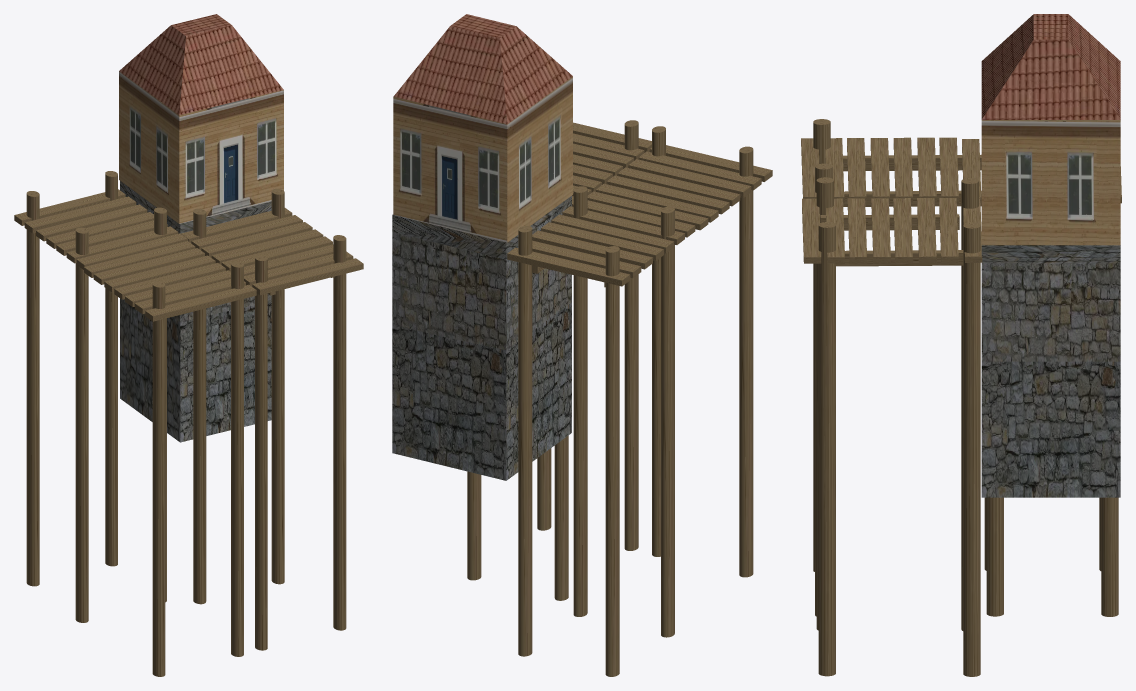
The model's file is fisherman2.glb.
The picture shows the model from 3 angles, left to right: view 1: azimuth 30°, elevation 25°; view 2: azimuth 150°, elevation 25°; view 3: azimuth 270°, elevation 25°; orthographic projection. The views are drawn at different scales.
Parts seen in each view (by area): view 1: Cube, Cube.002, Cylinder.004, Cylinder.007, Cylinder.002, Cylinder.005, Cylinder.003, Cylinder.008, Cylinder.009, Cylinder.010, Cylinder.001, Cube.008 (+22 smaller); view 2: Cube.002, Cube, Cylinder.002, Cylinder.001, Cylinder.004, Cylinder.005, Cylinder.006, Cylinder.008, Cylinder.003, Cylinder.009, Cylinder.010, Cube.013 (+17 smaller); view 3: Cube.002, Cube, Cylinder.007, Cylinder.010, Cylinder.001, Cylinder.006, Cylinder.009, Cylinder.008, Cylinder.004, Cube.009, Cube.004, Cube.010 (+18 smaller).
Boxes of the visible parts, left/top/right/bottom form: Cube: left=119, top=14, right=283, bottom=223; Cube.002: left=120, top=181, right=271, bottom=442; Cylinder.004: left=152, top=281, right=165, bottom=676; Cylinder.007: left=333, top=235, right=346, bottom=630; Cylinder.002: left=26, top=191, right=39, bottom=586; Cylinder.005: left=75, top=227, right=88, bottom=622; Cylinder.003: left=231, top=261, right=243, bottom=656; Cylinder.008: left=255, top=255, right=267, bottom=650; Cylinder.009: left=193, top=208, right=206, bottom=604; Cylinder.010: left=271, top=188, right=284, bottom=584; Cylinder.001: left=105, top=171, right=117, bottom=566; Cube.008: left=252, top=258, right=363, bottom=295; Cube.002: left=392, top=196, right=571, bottom=480; Cube: left=393, top=14, right=572, bottom=242; Cylinder.002: left=605, top=246, right=619, bottom=676; Cylinder.001: left=518, top=225, right=532, bottom=656; Cylinder.004: left=739, top=146, right=753, bottom=577; Cylinder.005: left=661, top=206, right=674, bottom=637; Cylinder.006: left=573, top=186, right=587, bottom=616; Cylinder.008: left=624, top=120, right=638, bottom=550; Cylinder.003: left=652, top=126, right=665, bottom=556; Cylinder.009: left=554, top=435, right=568, bottom=600; Cylinder.010: left=467, top=471, right=481, bottom=580; Cube.013: left=507, top=247, right=630, bottom=286; Cube.002: left=981, top=245, right=1120, bottom=497; Cube: left=981, top=14, right=1120, bottom=245; Cylinder.007: left=818, top=222, right=835, bottom=676; Cylinder.010: left=963, top=222, right=980, bottom=676; Cylinder.001: left=1101, top=497, right=1118, bottom=616; Cylinder.006: left=986, top=497, right=1003, bottom=616; Cylinder.009: left=961, top=178, right=978, bottom=630; Cylinder.008: left=816, top=177, right=833, bottom=630; Cylinder.004: left=813, top=119, right=830, bottom=571; Cube.009: left=871, top=198, right=890, bottom=263; Cube.004: left=893, top=198, right=912, bottom=263; Cube.010: left=847, top=198, right=866, bottom=263.
Size of the model in its own units: 2.04 by 4.95 by 2.31.
5 materials, 5 textured.
